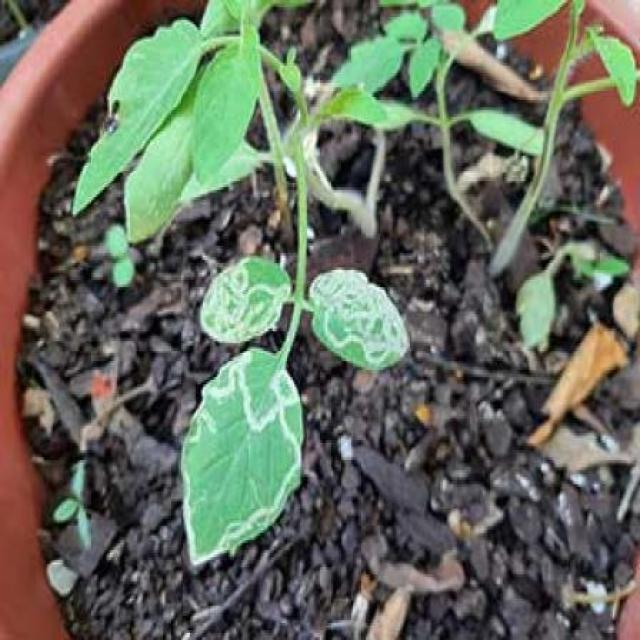Leaf Miner: (179, 345, 308, 566), (310, 267, 411, 372), (198, 251, 289, 343)
